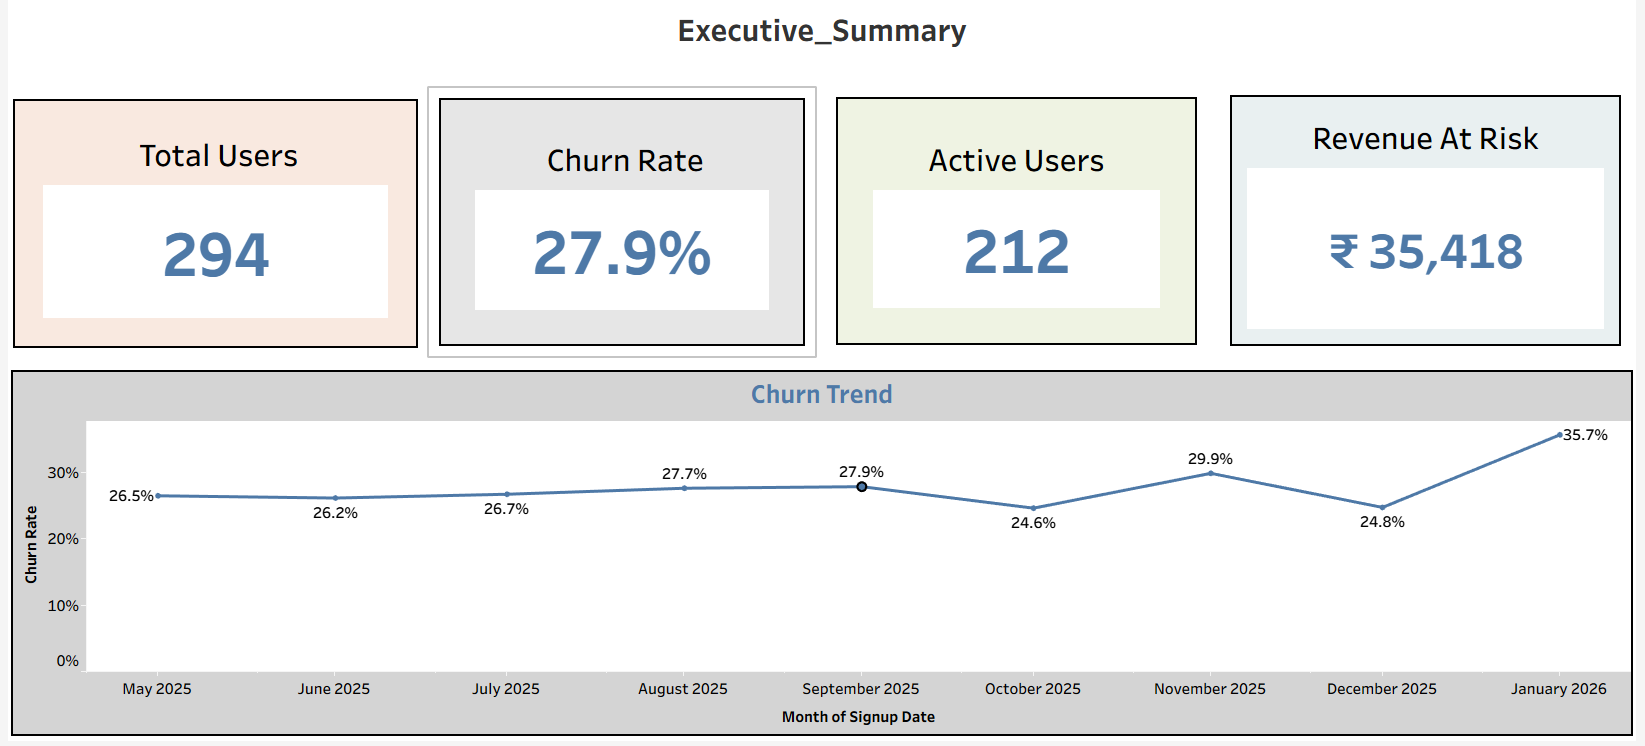

The page's visual inventory and layout, read from the dashboard file:
{"tool":"tableau","page":{"name":"Executive_Summary","canvas":[1000,1000],"units":"permille","ordinal":2},"visuals":[{"type":"title","box":[4.9,10.7,990.2,71]},{"type":"dashboard-object","box":[671.1,13,15.2,34.7]},{"type":"worksheet","title":"Revenue At Risk","mark":"Automatic","box":[744.8,121.4,252.7,362.7]},{"type":"worksheet","title":"Active Users","mark":"Automatic","box":[502.5,124.3,234,358.4]},{"type":"worksheet","title":" Churn Rate","mark":"Automatic","box":[258.6,125.7,237,358.4]},{"type":"worksheet","title":"Churn Trend","mark":"Line","rows":["Calculation_-3470586418499944448"],"cols":["signup_date"],"box":[1.9,502.9,996.3,489.9]}]}

Visuals, with their boxes on the dashboard's canvas, which has no fixed pixel size, in thousandths of its width and height (x1, y1, x2, y2). These are canvas units, not pixel positions in the 1645x746 screenshot, which may show the page scaled, cropped or inside an application window:
title: {"x1": 5, "y1": 11, "x2": 995, "y2": 82}
dashboard-object: {"x1": 671, "y1": 13, "x2": 686, "y2": 48}
"Revenue At Risk" worksheet: {"x1": 745, "y1": 121, "x2": 998, "y2": 484}
"Active Users" worksheet: {"x1": 502, "y1": 124, "x2": 736, "y2": 483}
" Churn Rate" worksheet: {"x1": 259, "y1": 126, "x2": 496, "y2": 484}
"Churn Trend" worksheet (Line marks): {"x1": 2, "y1": 503, "x2": 998, "y2": 993}
